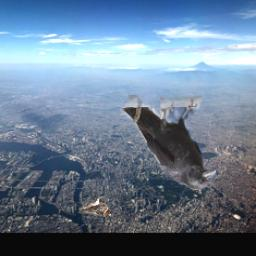Crow: (120, 95, 217, 190)
Swallow: (78, 196, 111, 217)
